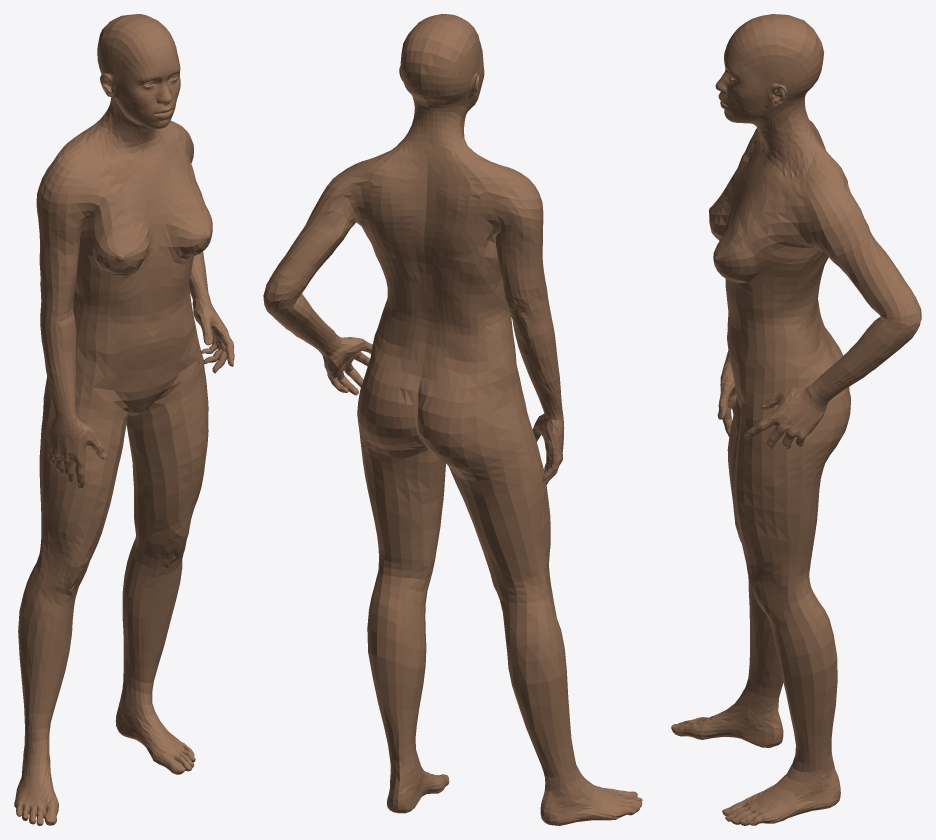
The model's file is mulher.obj.
3 views of the same model, side by side, from view 1: azimuth 30°, elevation 25°; view 2: azimuth 150°, elevation 25°; view 3: azimuth 270°, elevation 25° (orthographic). The views are drawn at different scales.
Parts seen in each view (by area): view 1: female_generic.obj; view 2: female_generic.obj; view 3: female_generic.obj.
Part boxes in pixels (<box>): female_generic.obj: <box>14,14,234,825</box>; female_generic.obj: <box>263,14,642,825</box>; female_generic.obj: <box>671,14,921,825</box>.
Size of the model in its own units: 5.99 by 16.47 by 4.74.
